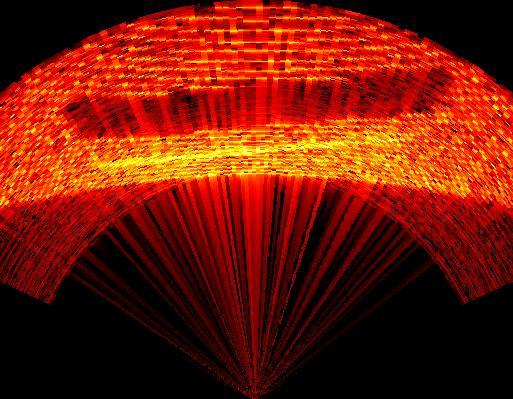pipe: (66, 64, 464, 141)
